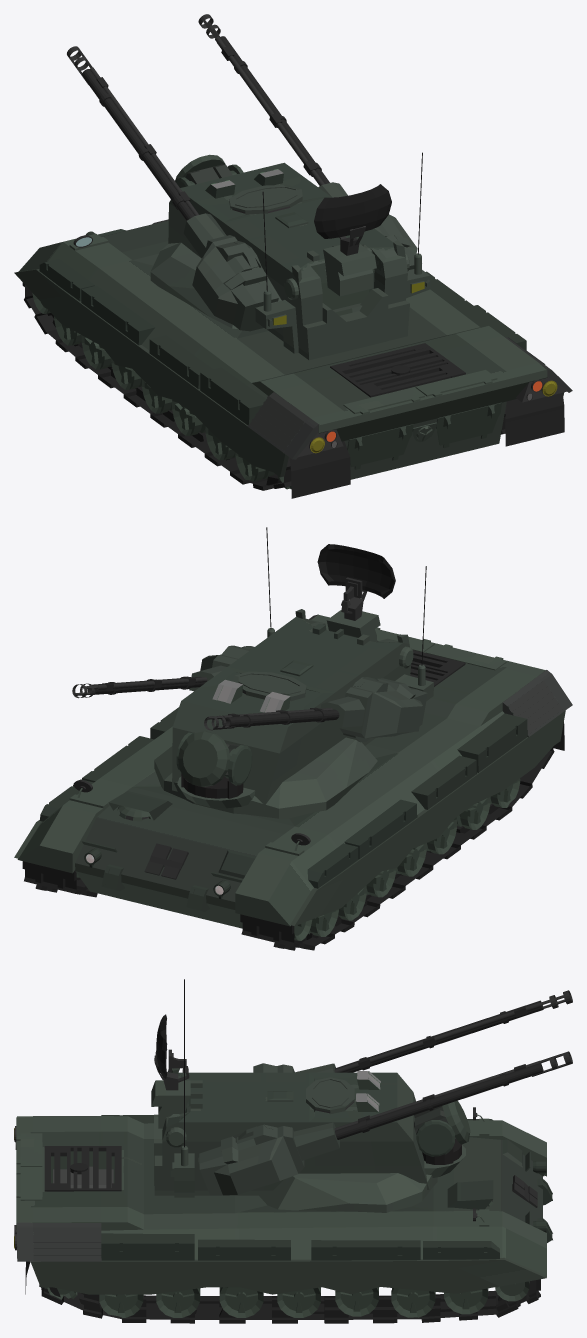
The model's file is shorad.glb.
The picture shows the model from 3 angles, top to bottom: view 1: azimuth 30°, elevation 25°; view 2: azimuth 150°, elevation 25°; view 3: azimuth 270°, elevation 25°; orthographic projection. The views are drawn at different scales.
Parts seen in each view (by area): view 1: cuboid_44, cuboid_56, cuboid_43, cuboid_68, cuboid_139, cylinder_0, sphere_88, cylinder_46, cuboid_78, cuboid_102, cylinder_71, cuboid_104 (+15 smaller); view 2: cuboid_44, cuboid_56, cuboid_43, cylinder_46, cylinder_0, cuboid_68, sphere_88, cylinder_50, cuboid_102, cuboid_104, cuboid_103, cylinder_100 (+22 smaller); view 3: cuboid_44, cuboid_56, cuboid_42, cylinder_29, cylinder_46, cuboid_57, cuboid_139, cuboid_107, cuboid_108, cylinder_60, cuboid_106, cuboid_109 (+22 smaller).
Part boxes in pixels (bbox=[...]): cuboid_44: bbox=[19, 220, 572, 498]; cuboid_56: bbox=[168, 162, 430, 360]; cuboid_43: bbox=[14, 269, 288, 477]; cuboid_68: bbox=[192, 235, 278, 331]; cuboid_139: bbox=[330, 343, 465, 397]; cylinder_0: bbox=[22, 282, 291, 490]; sphere_88: bbox=[314, 184, 391, 238]; cylinder_46: bbox=[150, 242, 237, 328]; cuboid_78: bbox=[323, 243, 376, 296]; cuboid_102: bbox=[199, 367, 266, 425]; cylinder_71: bbox=[82, 69, 194, 220]; cuboid_104: bbox=[81, 285, 154, 345]; cuboid_44: bbox=[17, 614, 572, 928]; cuboid_56: bbox=[172, 609, 433, 811]; cuboid_43: bbox=[290, 710, 565, 925]; cylinder_46: bbox=[154, 737, 377, 818]; cylinder_0: bbox=[240, 747, 554, 950]; cuboid_68: bbox=[339, 678, 427, 738]; sphere_88: bbox=[317, 544, 395, 598]; cylinder_50: bbox=[178, 731, 230, 786]; cuboid_102: bbox=[457, 713, 527, 772]; cuboid_104: bbox=[344, 799, 417, 858]; cuboid_103: bbox=[411, 755, 476, 809]; cylinder_100: bbox=[233, 671, 306, 701]; cuboid_44: bbox=[16, 1116, 546, 1294]; cuboid_56: bbox=[154, 1068, 429, 1197]; cuboid_42: bbox=[30, 1257, 546, 1294]; cylinder_29: bbox=[39, 1279, 540, 1323]; cylinder_46: bbox=[259, 1173, 437, 1212]; cuboid_57: bbox=[199, 1124, 304, 1195]; cuboid_139: bbox=[44, 1146, 121, 1191]; cuboid_107: bbox=[101, 1233, 194, 1260]; cuboid_108: bbox=[311, 1240, 420, 1260]; cylinder_60: bbox=[335, 1063, 543, 1139]; cuboid_106: bbox=[198, 1239, 290, 1260]; cuboid_109: bbox=[423, 1241, 499, 1259].
Bounding box in the file's own units: 4.78 × 4.15 × 8.63.
Materials: 6 (6 with a texture image).
